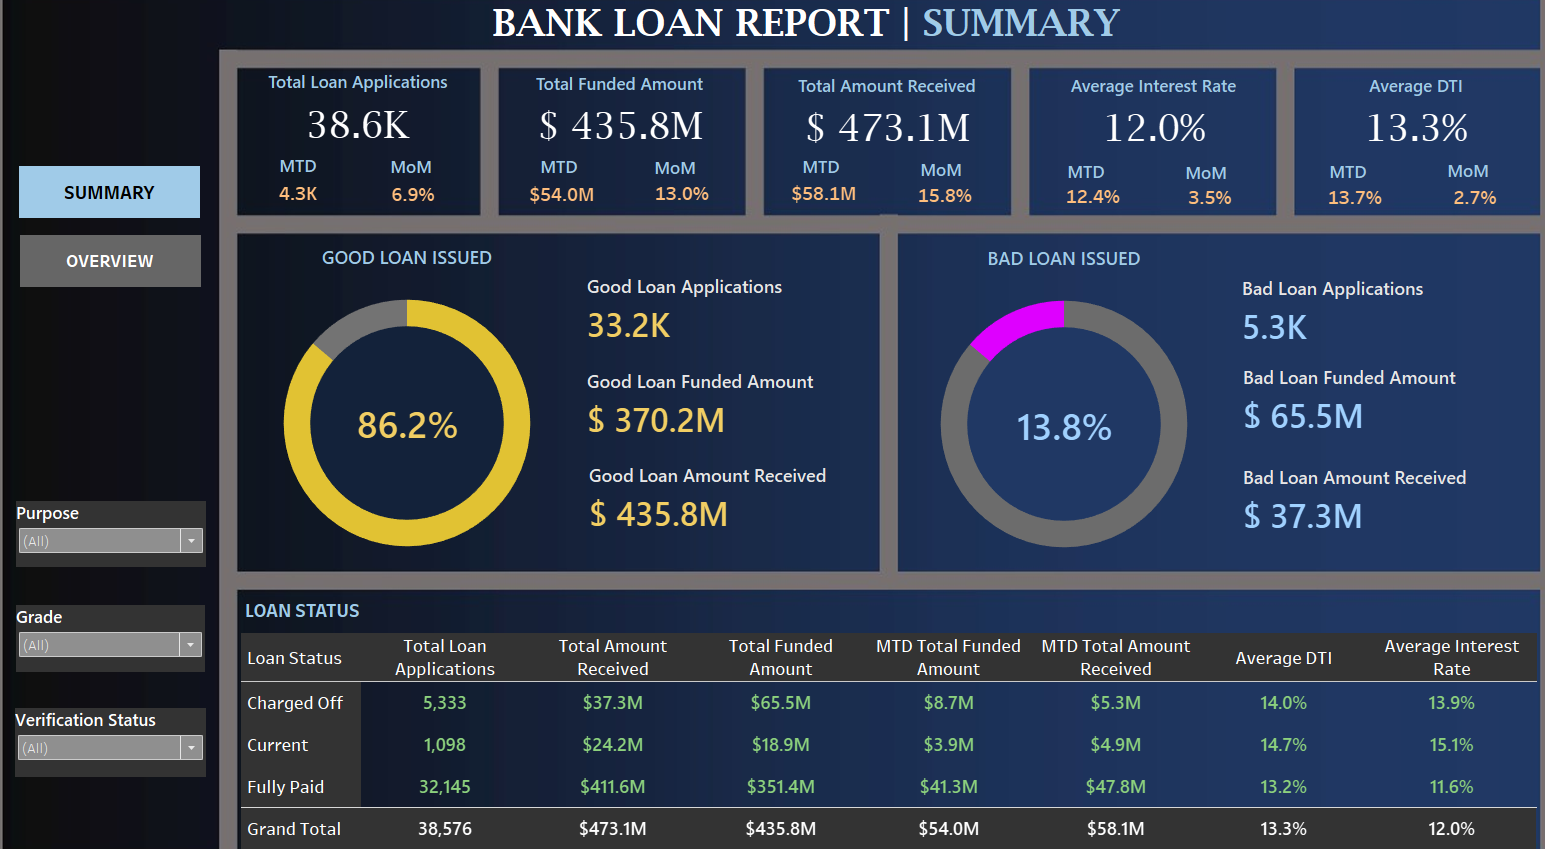

The page's visual inventory and layout, read from the dashboard file:
{"tool":"tableau","page":{"name":"SUMMARY","canvas":[1600,900],"ordinal":1},"visuals":[{"type":"image","param":"C:/Users/Nandika/OneDrive/Desktop/Bank loan analysis/Tableau Background 1.jpg","box":[8,8,1584,884]},{"type":"text","box":[517,24,684,54]},{"type":"worksheet","title":"Total Loan Applications","mark":"Automatic","box":[265,94,242,79]},{"type":"worksheet","title":"Total Funded Amount","mark":"Automatic","box":[531,96,233,78]},{"type":"worksheet","title":"Total Amount Received","mark":"Automatic","box":[805,98,220,78]},{"type":"worksheet","title":"Average Interest Rate","mark":"Automatic","box":[1090,98,183,77]},{"type":"worksheet","title":"Average DTI","mark":"Automatic","box":[1354,98,180,78]},{"type":"text","box":[304,178,45,30]},{"type":"text","box":[415,179,53,30]},{"type":"text","box":[565,179,45,30]},{"type":"text","box":[827,179,45,30]},{"type":"text","box":[679,180,53,30]},{"type":"text","box":[945,182,53,30]},{"type":"text","box":[1472,183,53,30]},{"type":"text","box":[1092,184,45,30]},{"type":"text","box":[1354,184,45,30]},{"type":"text","box":[1210,185,53,30]},{"type":"dashboard-object","box":[47,194,181,52]},{"type":"worksheet","title":"MTD Total Amount Received","mark":"Automatic","box":[805,202,93,38]},{"type":"worksheet","title":"MTD Total Loan Applications","mark":"Automatic","box":[293,203,66,35]},{"type":"worksheet","title":"MoM Loan Applications","mark":"Automatic","box":[407,204,68,35]},{"type":"worksheet","title":"MoM Total Funded Amount","mark":"Automatic","box":[675,205,69,32]},{"type":"worksheet","title":"MTD Total Funded Amount","mark":"Automatic","box":[544,206,91,32]},{"type":"worksheet","title":"MoM Total Amount Received","mark":"Automatic","box":[939,208,67,30]},{"type":"worksheet","title":"MTD Avg DTI","mark":"Automatic","box":[1348,209,69,31]},{"type":"worksheet","title":"MTD Avg Interest Rate","mark":"Automatic","box":[1088,211,66,26]},{"type":"worksheet","title":"MoM Average Interest Rate","mark":"Automatic","box":[1212,211,52,28]},{"type":"worksheet","title":"MoM Average DTI","mark":"Automatic","box":[1476,211,54,28]},{"type":"dashboard-object","box":[48,263,181,52]},{"type":"worksheet","title":"Good Loan Issued","mark":"Pie","rows":["Calculation_2231533646881165333","Calculation_2231533646881267735"],"box":[285,269,300,325]},{"type":"worksheet","title":"Bad Loan Issued","mark":"Pie","rows":["Calculation_2231533646881165333","Calculation_2231533646881267735"],"box":[942,270,300,325]},{"type":"worksheet","title":"Good Loan Applications","mark":"Automatic","box":[607,294,300,75]},{"type":"worksheet","title":"Bad Loan Applications","mark":"Automatic","box":[1262,296,300,75]},{"type":"worksheet","title":"Bad Loan Funded Amount ","mark":"Automatic","box":[1263,385,300,75]},{"type":"worksheet","title":"Good Loan Funded Amount","mark":"Automatic","box":[607,389,300,75]},{"type":"worksheet","title":"Good Loan Application %","mark":"Automatic","box":[350,393,172,117]},{"type":"worksheet","title":"Bad Loan Application % ","mark":"Automatic","box":[1028,403,129,100]},{"type":"worksheet","title":"Good Loan Amount Received","mark":"Automatic","box":[609,483,300,75]},{"type":"worksheet","title":"Bad Loan Amount Received","mark":"Automatic","box":[1263,485,300,75]},{"type":"filter","title":"Good Loan Issued","param":"[federated.1mc57rm0pl04dp11keiae19viinj].[none:purpose:nk]","box":[44,529,190,66]},{"type":"worksheet","title":"LOAN STATUS","mark":"Automatic","rows":["loan_status"],"box":[269,621,1296,257]},{"type":"filter","title":"Good Loan Issued","param":"[federated.1mc57rm0pl04dp11keiae19viinj].[none:grade:nk]","box":[44,633,189,67]},{"type":"filter","title":"Good Loan Issued","param":"[federated.1mc57rm0pl04dp11keiae19viinj].[none:verification_status:nk]","box":[43,736,191,69]}]}

Visuals, with their boxes in screenshot pixels (x1, y1, x2, y2), scaled from the page's 1600x900 canvas onto the 1545x849 screenshot:
image: <region>8, 8, 1537, 841</region>
text: <region>499, 23, 1160, 74</region>
"Total Loan Applications" worksheet: <region>256, 89, 490, 163</region>
"Total Funded Amount" worksheet: <region>513, 91, 738, 164</region>
"Total Amount Received" worksheet: <region>777, 92, 990, 166</region>
"Average Interest Rate" worksheet: <region>1053, 92, 1229, 165</region>
"Average DTI" worksheet: <region>1307, 92, 1481, 166</region>
text: <region>294, 168, 337, 196</region>
text: <region>401, 169, 452, 197</region>
text: <region>546, 169, 589, 197</region>
text: <region>799, 169, 842, 197</region>
text: <region>656, 170, 707, 198</region>
text: <region>913, 172, 964, 200</region>
text: <region>1421, 173, 1473, 201</region>
text: <region>1054, 174, 1098, 202</region>
text: <region>1307, 174, 1351, 202</region>
text: <region>1168, 175, 1220, 203</region>
dashboard-object: <region>45, 183, 220, 232</region>
"MTD Total Amount Received" worksheet: <region>777, 191, 867, 226</region>
"MTD Total Loan Applications" worksheet: <region>283, 191, 347, 225</region>
"MoM Loan Applications" worksheet: <region>393, 192, 459, 225</region>
"MoM Total Funded Amount" worksheet: <region>652, 193, 718, 224</region>
"MTD Total Funded Amount" worksheet: <region>525, 194, 613, 225</region>
"MoM Total Amount Received" worksheet: <region>907, 196, 971, 225</region>
"MTD Avg DTI" worksheet: <region>1302, 197, 1368, 226</region>
"MTD Avg Interest Rate" worksheet: <region>1051, 199, 1114, 224</region>
"MoM Average Interest Rate" worksheet: <region>1170, 199, 1221, 225</region>
"MoM Average DTI" worksheet: <region>1425, 199, 1477, 225</region>
dashboard-object: <region>46, 248, 221, 297</region>
"Good Loan Issued" worksheet (Pie marks): <region>275, 254, 565, 560</region>
"Bad Loan Issued" worksheet (Pie marks): <region>910, 255, 1199, 561</region>
"Good Loan Applications" worksheet: <region>586, 277, 876, 348</region>
"Bad Loan Applications" worksheet: <region>1219, 279, 1508, 350</region>
"Bad Loan Funded Amount " worksheet: <region>1220, 363, 1509, 434</region>
"Good Loan Funded Amount" worksheet: <region>586, 367, 876, 438</region>
"Good Loan Application %" worksheet: <region>338, 371, 504, 481</region>
"Bad Loan Application % " worksheet: <region>993, 380, 1117, 474</region>
"Good Loan Amount Received" worksheet: <region>588, 456, 878, 526</region>
"Bad Loan Amount Received" worksheet: <region>1220, 458, 1509, 528</region>
"Good Loan Issued" filter: <region>42, 499, 226, 561</region>
"LOAN STATUS" worksheet: <region>260, 586, 1511, 828</region>
"Good Loan Issued" filter: <region>42, 597, 225, 660</region>
"Good Loan Issued" filter: <region>42, 694, 226, 759</region>
